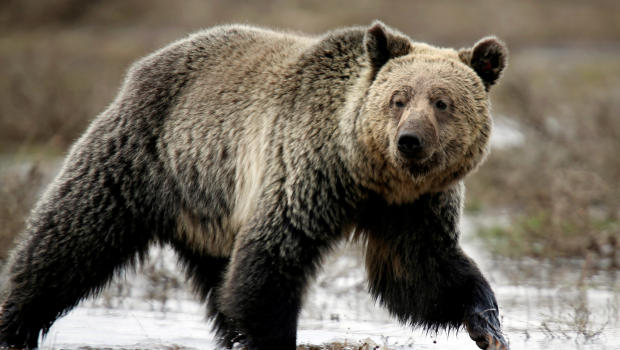bear: (356, 17, 512, 184)
